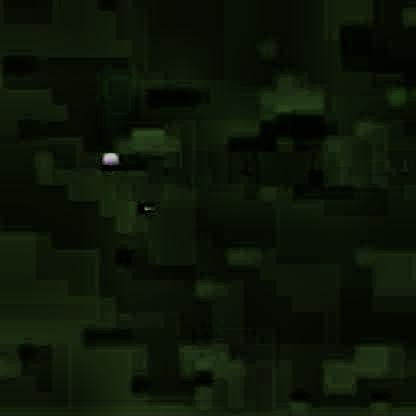golfball: (98, 149, 118, 169)
